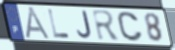8: (144, 12, 165, 44)
A: (25, 6, 53, 41)
C: (117, 11, 145, 43)
J: (76, 10, 93, 40)
L: (46, 8, 71, 39)
R: (91, 9, 122, 42)
